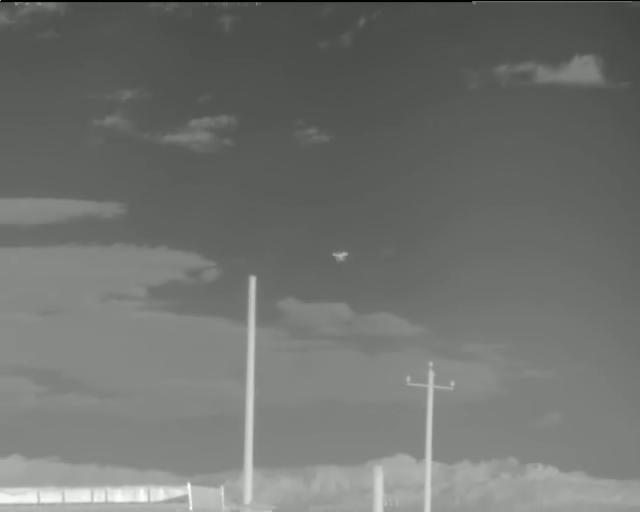uav: (331, 251, 350, 265)
